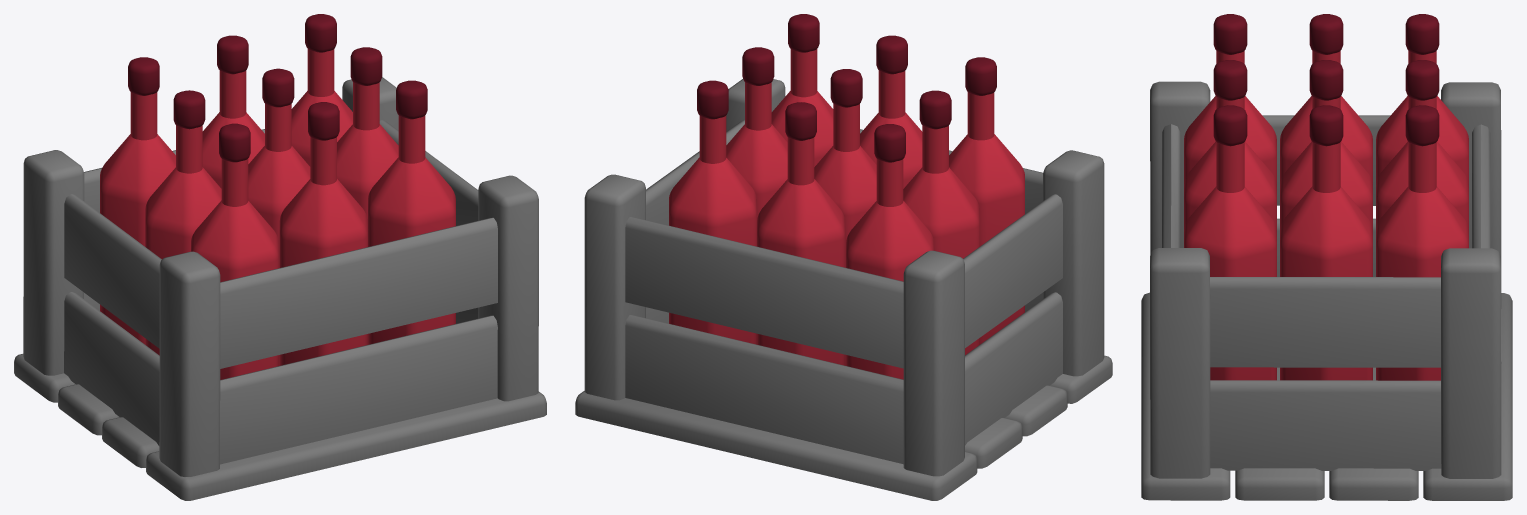
File: kasasise.fbx
3 renders of one model, left to right at view 1: azimuth 30°, elevation 25°; view 2: azimuth 150°, elevation 25°; view 3: azimuth 270°, elevation 25°, orthographic. The views are drawn at different scales.
Visible parts, largest first — view 1: land_67.032; view 2: land_67.032; view 3: land_67.032.
Boxes of the visible parts, x1,y1,x2,y2 form: land_67.032: [14, 14, 546, 500]; land_67.032: [575, 14, 1112, 500]; land_67.032: [1141, 14, 1512, 500].
Bounding box in the file's own units: 224 × 188 × 186.
